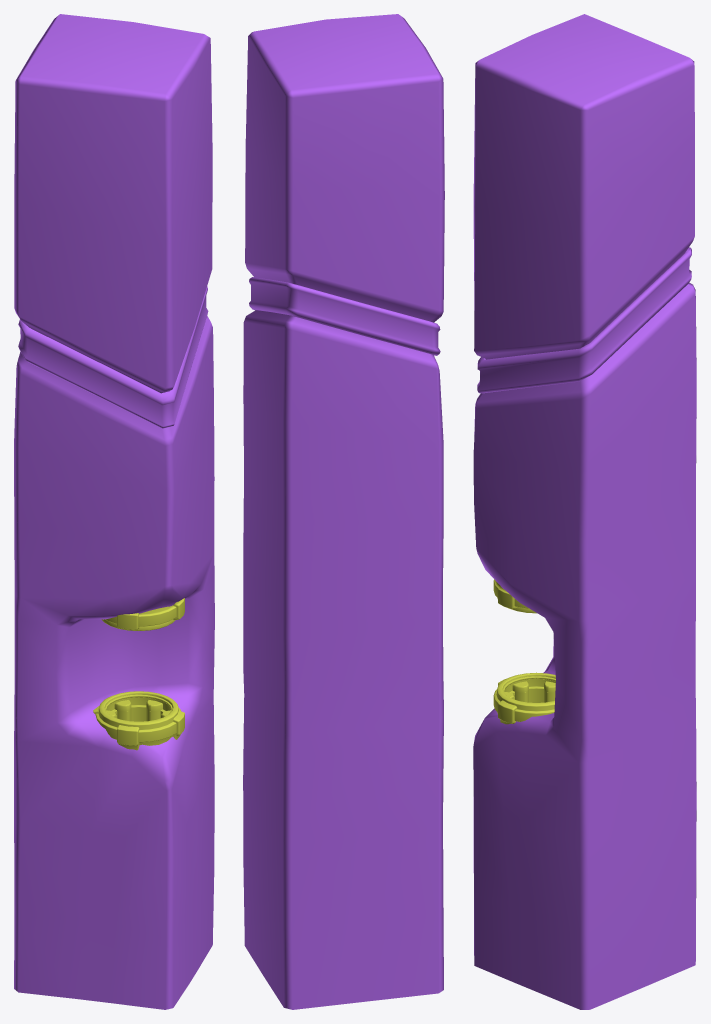
File: env_Chamber_RunePillar_03.FBX
3 renders of one model, left to right at view 1: azimuth 30°, elevation 25°; view 2: azimuth 150°, elevation 25°; view 3: azimuth 270°, elevation 25°, orthographic.
Visible parts, largest first — view 1: env_Chamber_RunePillar_03; view 2: env_Chamber_RunePillar_03; view 3: env_Chamber_RunePillar_03.
Boxes of the visible parts, x1,y1,x2,y2 form: env_Chamber_RunePillar_03: [14, 14, 214, 1009]; env_Chamber_RunePillar_03: [243, 14, 444, 1009]; env_Chamber_RunePillar_03: [473, 14, 696, 1009].
Bounding box in the file's own units: 202 × 897 × 200.
